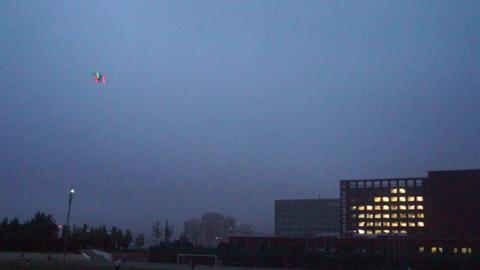UAV: (93, 72, 106, 84)
